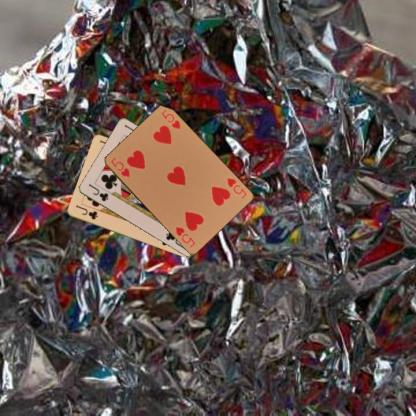5h: (224, 174, 248, 200), (108, 155, 131, 178)
Jc: (86, 181, 109, 203), (73, 202, 99, 221)
